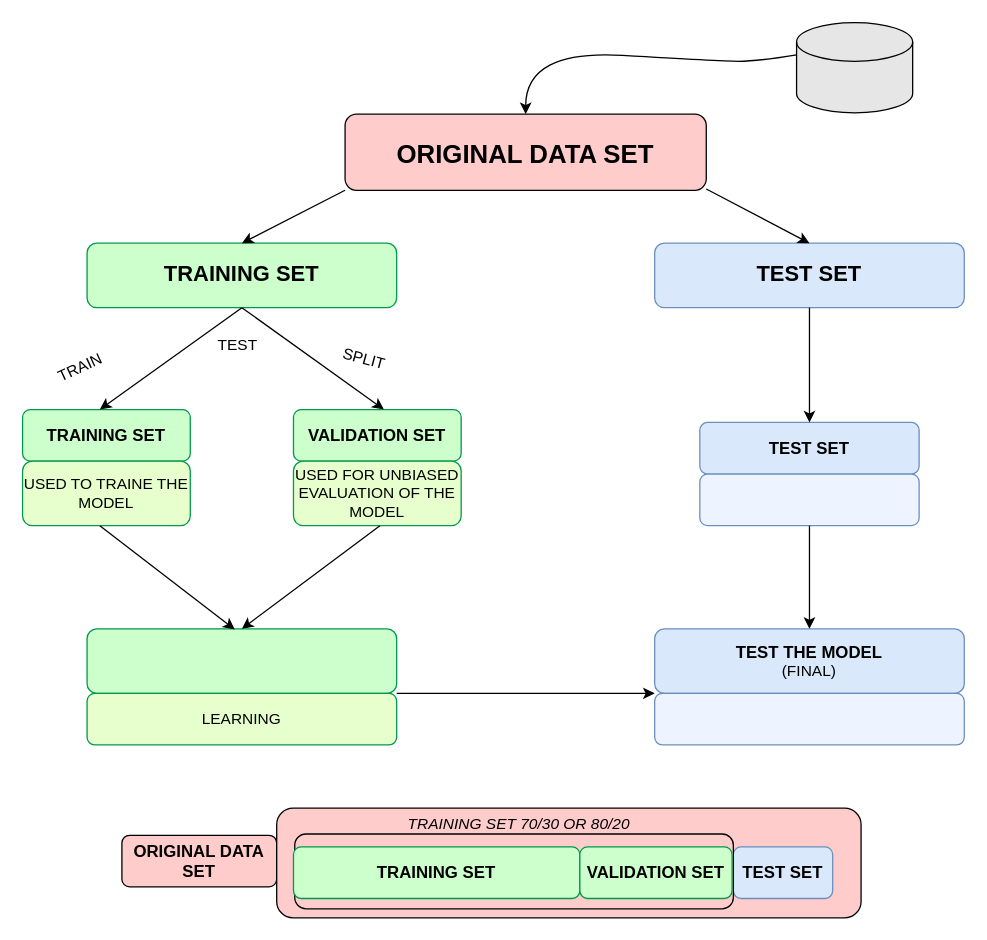
Image size: 987x940. Some labels were removed from this diagram. The centre of each missing label's shape, as x and y in pixels:
"DATABASE" belongs at point 854,67.
"TESTING" belongs at point 808,718.
"TRAIN, TUNE, VALIDATE THE MODEL (MULTIPLY TIMES)" belongs at point 241,660.
"USED FOR FINAL EVALUATION OF THE MODEL" belongs at point 809,499.
